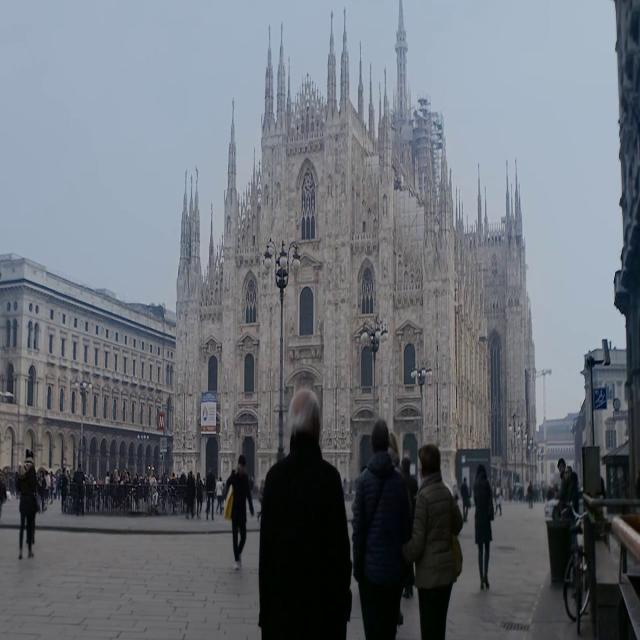body: (256, 383, 356, 639), (0, 463, 226, 536), (351, 416, 414, 640), (397, 440, 465, 639), (223, 454, 255, 572), (472, 462, 495, 594), (400, 455, 418, 601), (16, 446, 38, 561), (490, 481, 562, 502), (559, 464, 579, 515), (384, 429, 402, 473), (72, 460, 86, 516), (205, 465, 217, 522), (459, 476, 472, 524), (193, 470, 205, 520), (185, 469, 196, 519), (178, 468, 188, 516), (60, 465, 68, 515), (214, 476, 224, 516), (450, 482, 460, 514), (493, 481, 502, 516), (526, 479, 534, 510), (556, 456, 566, 478), (258, 477, 266, 495)
